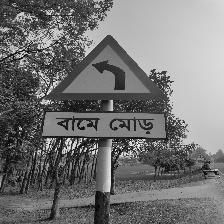Left-Turn: (40, 36, 170, 141)
